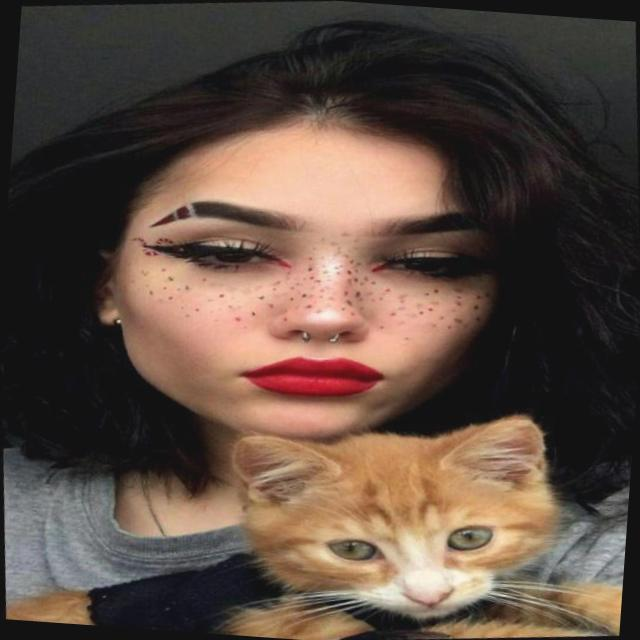freckle: (128, 214, 499, 365)
